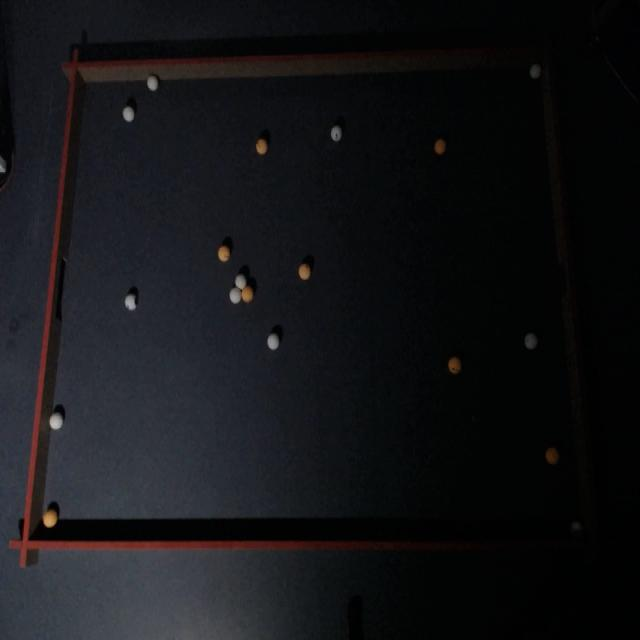orange_ball: (43, 509, 57, 528), (546, 447, 560, 465), (299, 263, 311, 280), (242, 285, 254, 302), (434, 139, 446, 155), (218, 246, 230, 262), (449, 358, 460, 374), (256, 139, 266, 154)
white_ball: (49, 412, 64, 430), (524, 333, 538, 350), (229, 286, 242, 304), (268, 334, 280, 351), (123, 106, 135, 122), (146, 75, 158, 91), (235, 274, 247, 290), (331, 125, 342, 142), (530, 63, 541, 79), (125, 297, 136, 311), (573, 521, 582, 532)
